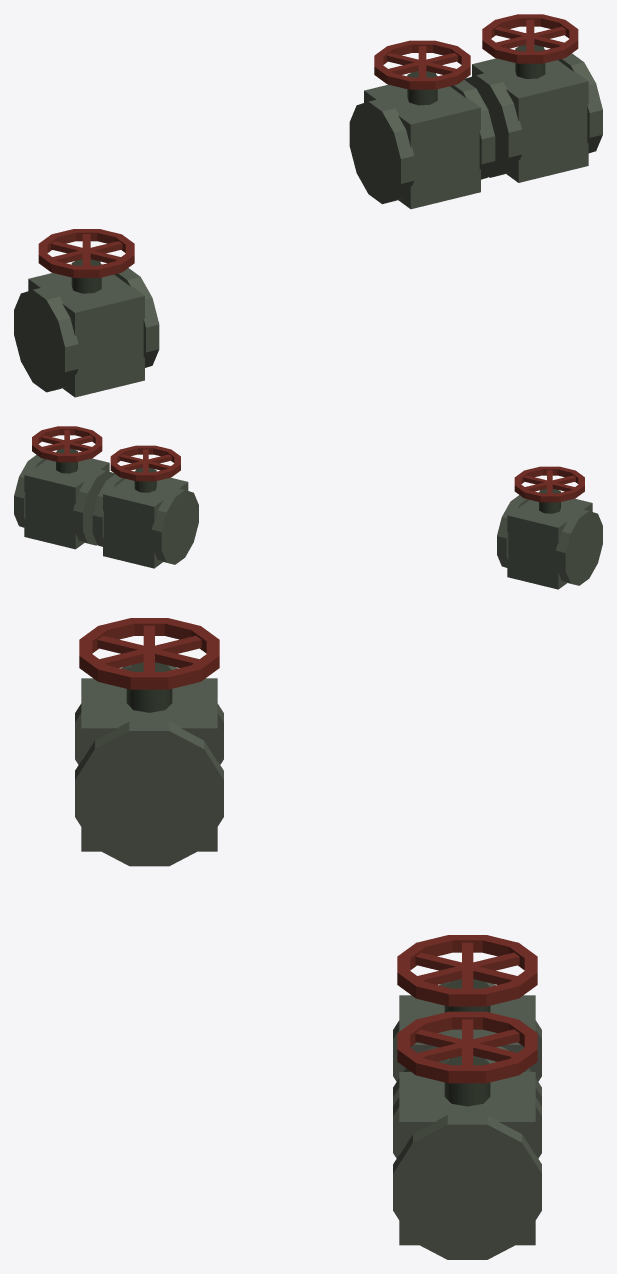
The model's file is ko600_valves.obj.
3 renders of one model, top to bottom at view 1: azimuth 30°, elevation 25°; view 2: azimuth 150°, elevation 25°; view 3: azimuth 270°, elevation 25°, orthographic. The views are drawn at different scales.
Parts seen in each view (by area): view 1: ko600_valves; view 2: ko600_valves; view 3: ko600_valves.
Boxes of the visible parts, <box> form: ko600_valves: <box>14,14,602,397</box>; ko600_valves: <box>14,426,602,589</box>; ko600_valves: <box>75,618,541,1259</box>.
Size of the model in its own units: 2.4 by 0.4492 by 1.03.
